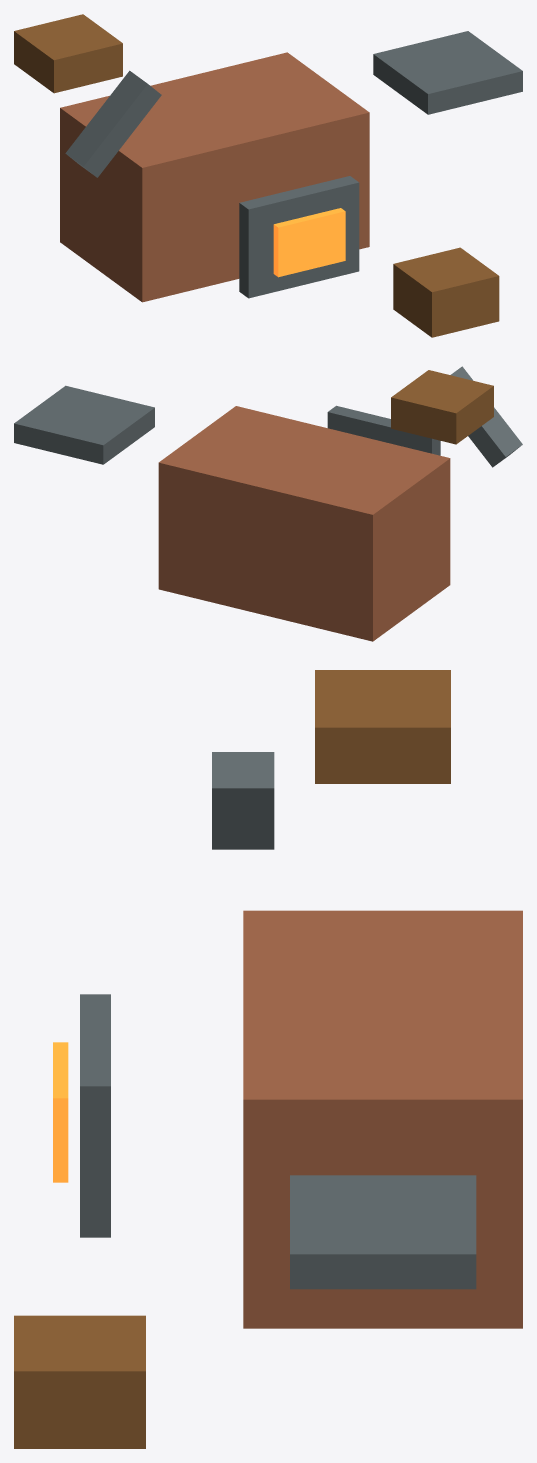
File: workshop_machine.gltf
3 views of the same model, one above another, from view 1: azimuth 30°, elevation 25°; view 2: azimuth 150°, elevation 25°; view 3: azimuth 270°, elevation 25° (orthographic). The views are drawn at different scales.
Visible parts, largest first — view 1: Body, Flywheel, Door, Output, Input, Broken, Ember; view 2: Body, Flywheel, Input, Door, Broken; view 3: Body, Flywheel, Output, Input, Door, Broken, Ember.
Part boxes in pixels (box(x1,y1,x2,y2)): Body: box(60, 52, 369, 302); Flywheel: box(373, 31, 522, 114); Door: box(239, 176, 359, 298); Output: box(393, 247, 499, 337); Input: box(14, 14, 122, 93); Broken: box(65, 70, 161, 177); Ember: box(273, 208, 345, 277); Body: box(158, 406, 450, 641); Flywheel: box(14, 385, 154, 464); Input: box(391, 370, 493, 444); Door: box(327, 405, 440, 455); Broken: box(450, 366, 522, 467); Body: box(243, 910, 522, 1328); Flywheel: box(290, 1175, 476, 1289); Output: box(14, 1315, 145, 1448); Input: box(315, 670, 450, 783); Door: box(80, 994, 110, 1237); Broken: box(212, 752, 274, 849); Ember: box(53, 1042, 68, 1182).
Bounding box in the file's own units: 2.34 × 1.37 × 1.31.
